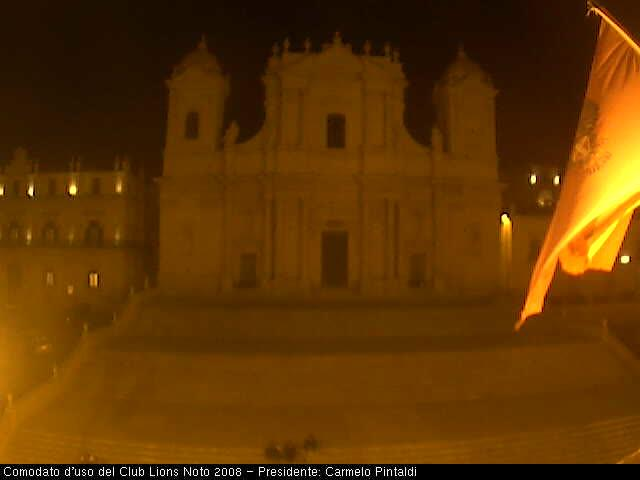person: (302, 432, 319, 463), (282, 440, 299, 464), (266, 439, 281, 463), (89, 452, 103, 464), (77, 452, 88, 465)
